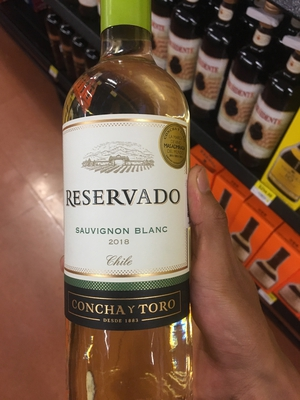reservado sauvignon blanc: (55, 6, 208, 381)
